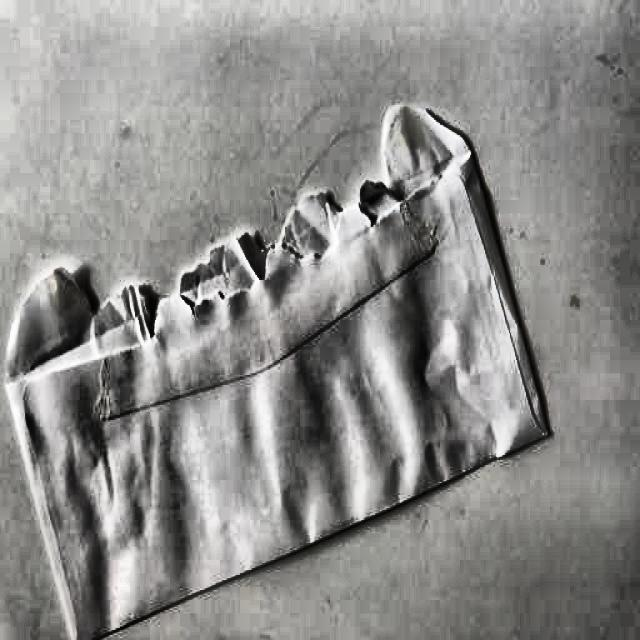paper: (8, 105, 544, 572)
